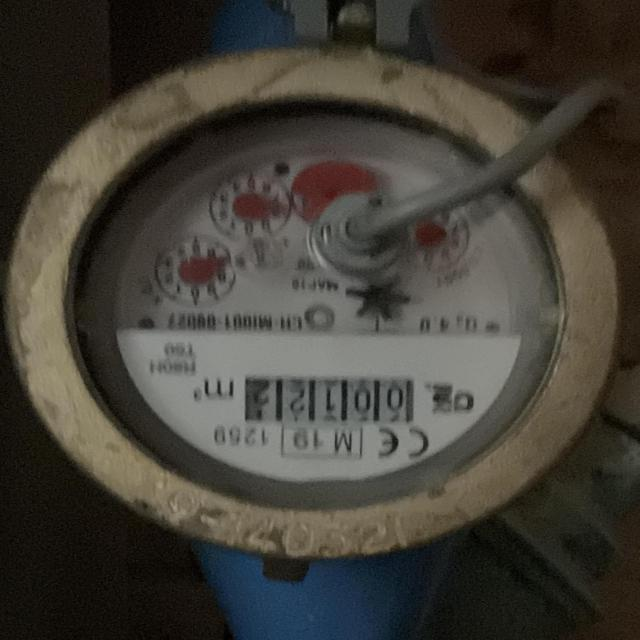gaz_meter: (116, 118, 549, 484)
indication: (244, 375, 416, 423)
